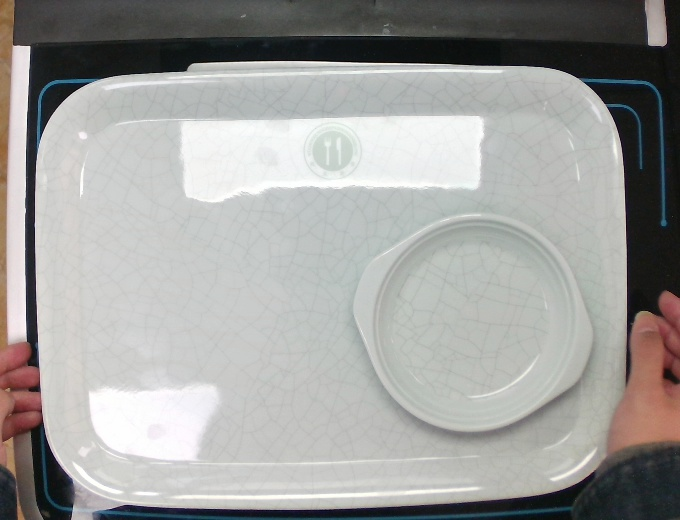JYsf-Shuang_Er_Pan: (349, 210, 596, 435)
